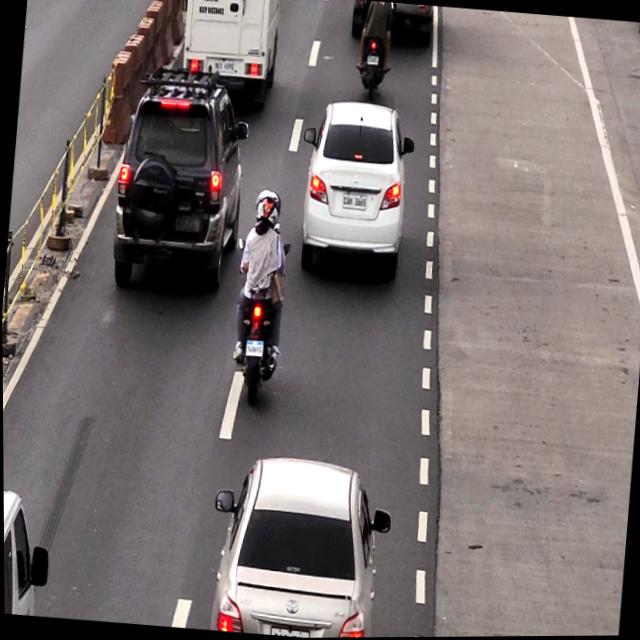Car: (215, 447, 383, 639), (112, 64, 253, 287), (300, 101, 412, 290), (175, 0, 280, 95)
License-Plate: (341, 194, 369, 212), (175, 213, 201, 232), (243, 339, 264, 359), (211, 58, 235, 73)
Motorcycle: (225, 184, 296, 409), (356, 0, 393, 96)
